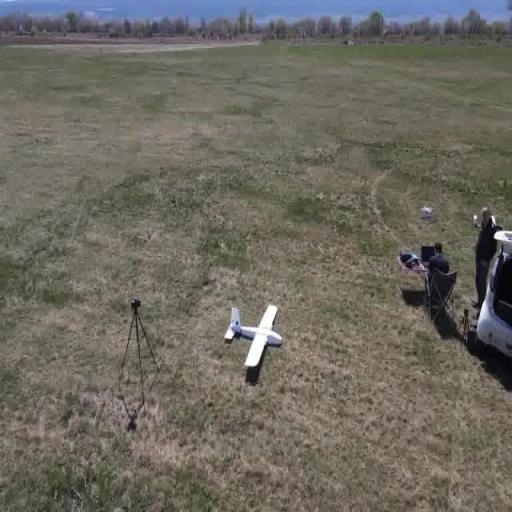uav: (226, 300, 288, 378)
